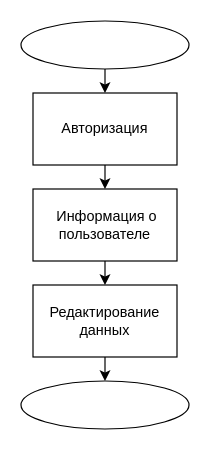
Some shapes in this 210 by 450 pixel diagram are drawn without their labels. Here are the shapes that lost their labels. From the top down, the centre of each, then its label:
(104,44): Начало
(104,404): Конец
